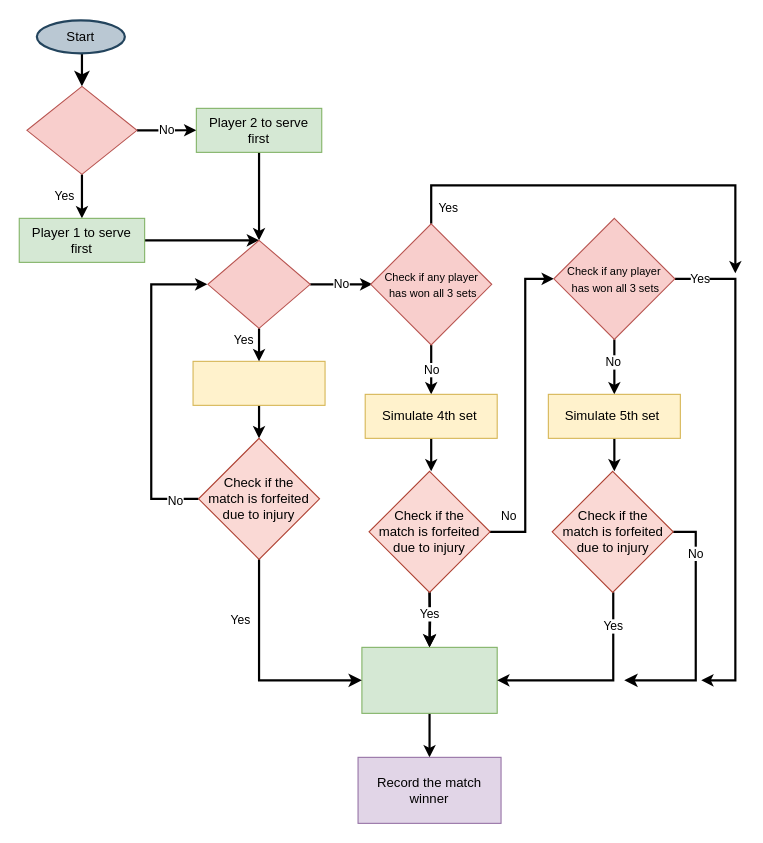
Image size: 763x843. Some labels were removed from this diagram. Each missing label, with the centre of its shape:
Determine who won the match: the point at 429,679
Flip a coin for player1 to win: the point at 81,129
If set <= 3 sets: the point at 258,283
Simulate set: the point at 258,382
